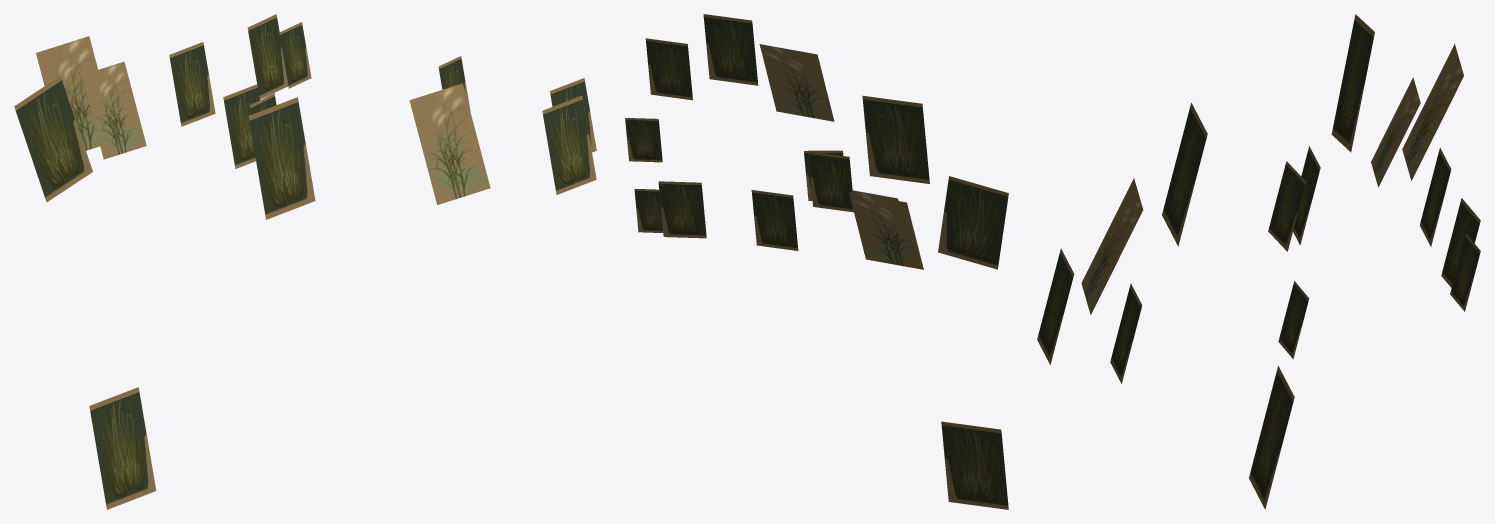
File: object_grass_polys13.fbx
3 views of the same model, side by side, from view 1: azimuth 30°, elevation 25°; view 2: azimuth 150°, elevation 25°; view 3: azimuth 270°, elevation 25° (orthographic). The views are drawn at different scales.
Parts seen in each view (by area): view 1: obj0.069; view 2: obj0.069; view 3: obj0.069.
Part boxes in pixels (x1=…): obj0.069: x1=14, y1=14, x2=596, y2=509; obj0.069: x1=625, y1=14, x2=1008, y2=509; obj0.069: x1=1037, y1=14, x2=1480, y2=509.
Size of the model in its own units: 14.75 by 11.49 by 10.25.
